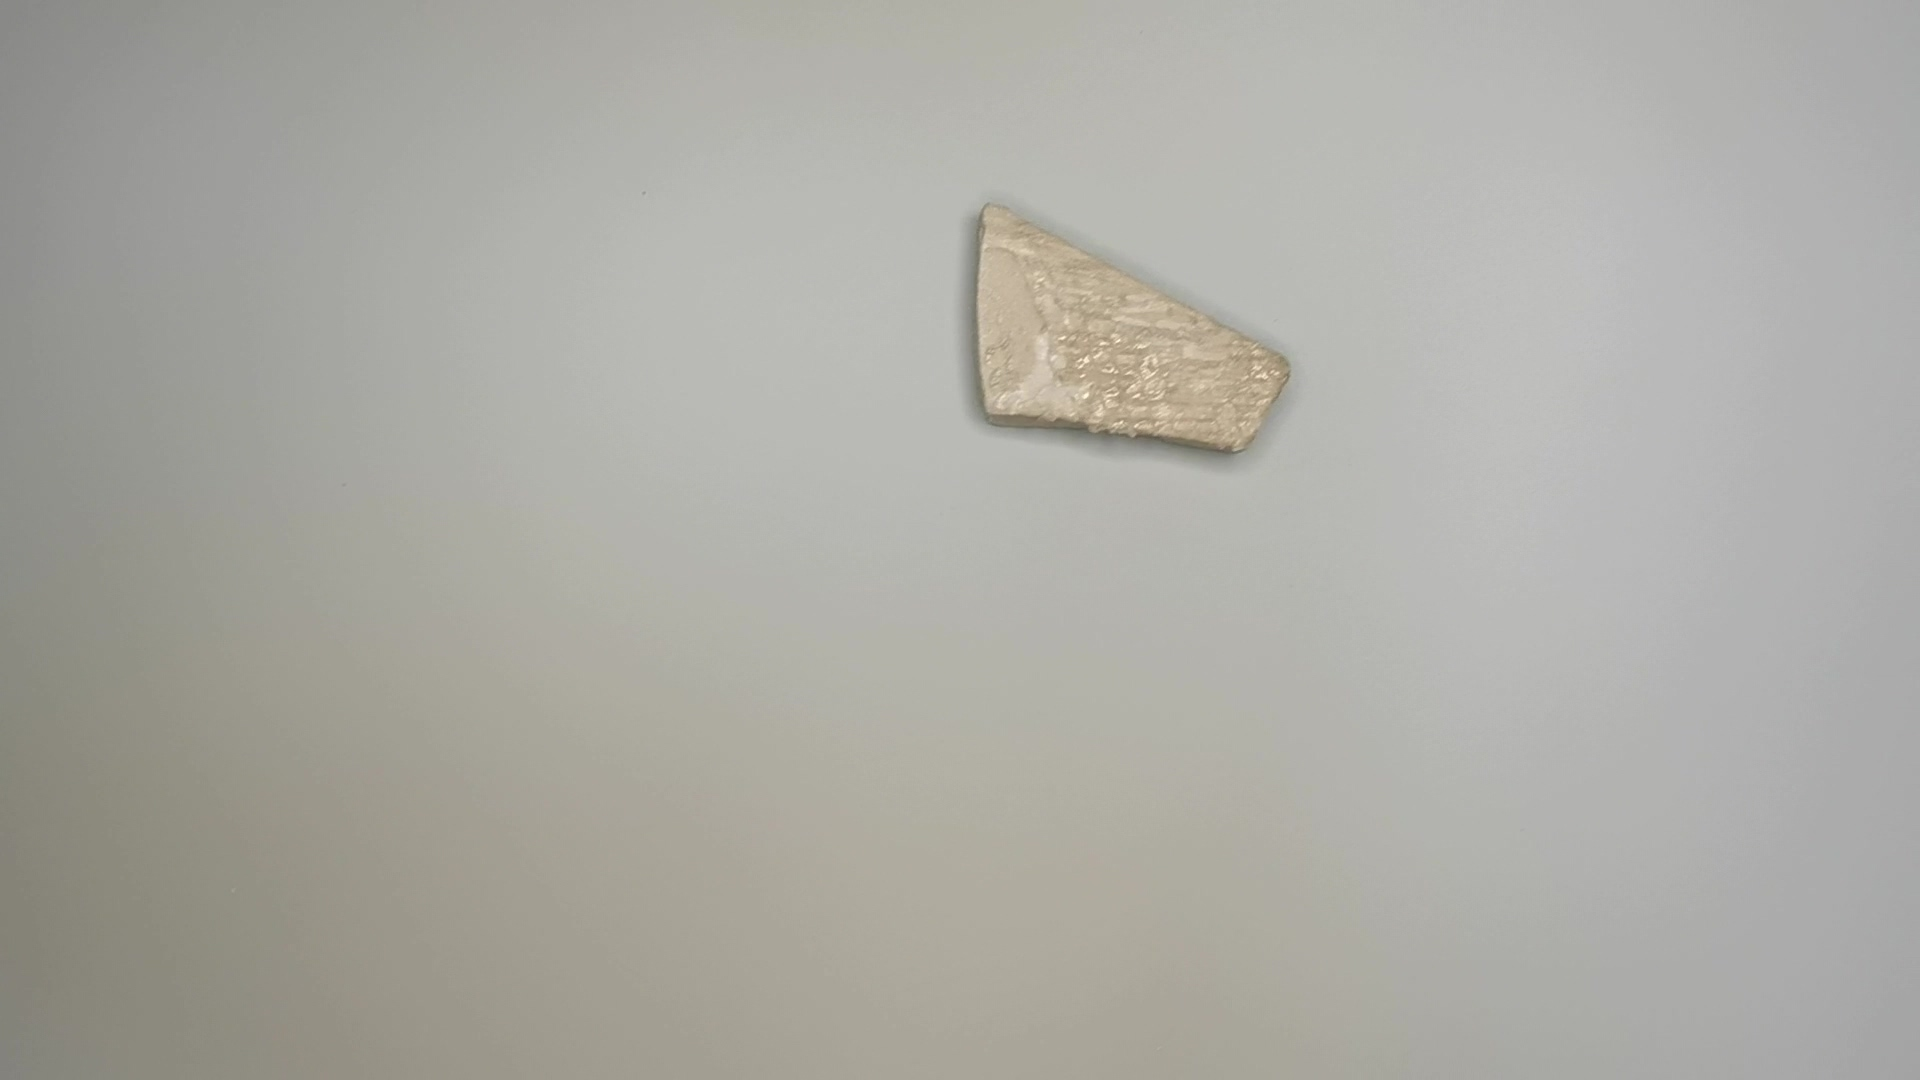ceramic: (971, 200, 1295, 460)
